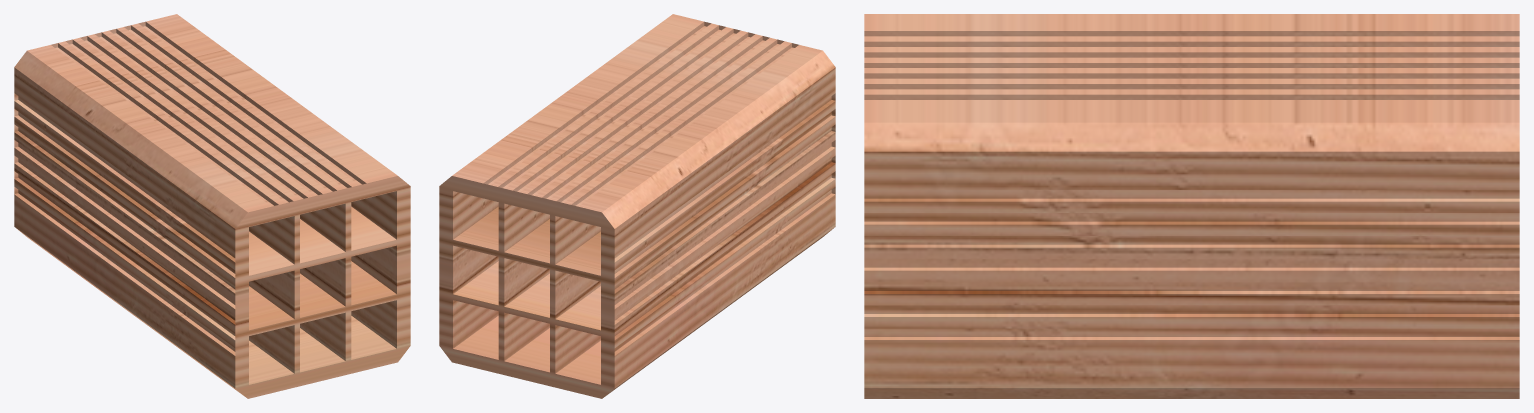
File: ladrillo naraja.fbx
3 renders of one model, left to right at view 1: azimuth 30°, elevation 25°; view 2: azimuth 150°, elevation 25°; view 3: azimuth 270°, elevation 25°, orthographic. The views are drawn at different scales.
Visible parts, largest first — view 1: ladrillo 2; view 2: ladrillo 2; view 3: ladrillo 2.
Boxes of the visible parts, left/top/right/bottom form: ladrillo 2: left=14, top=14, right=410, bottom=398; ladrillo 2: left=439, top=14, right=835, bottom=398; ladrillo 2: left=864, top=14, right=1519, bottom=398.
Size of the model in its own units: 280 by 285 by 611.
